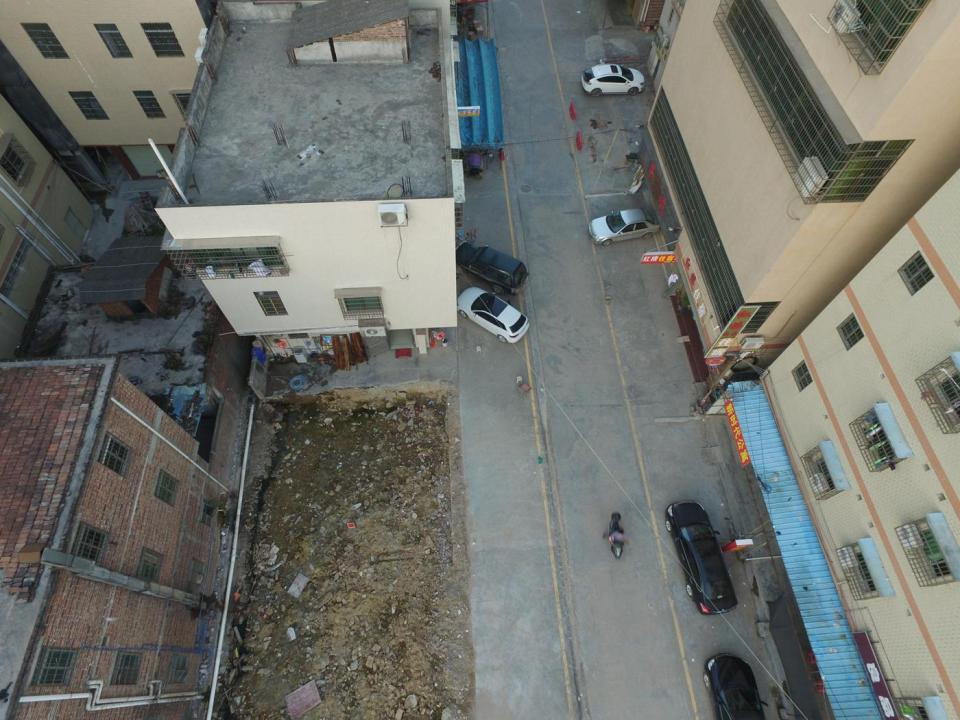car: (666, 501, 738, 613), (704, 652, 781, 720), (458, 284, 530, 343), (587, 208, 662, 247), (582, 63, 646, 97)
van: (456, 239, 529, 295)
